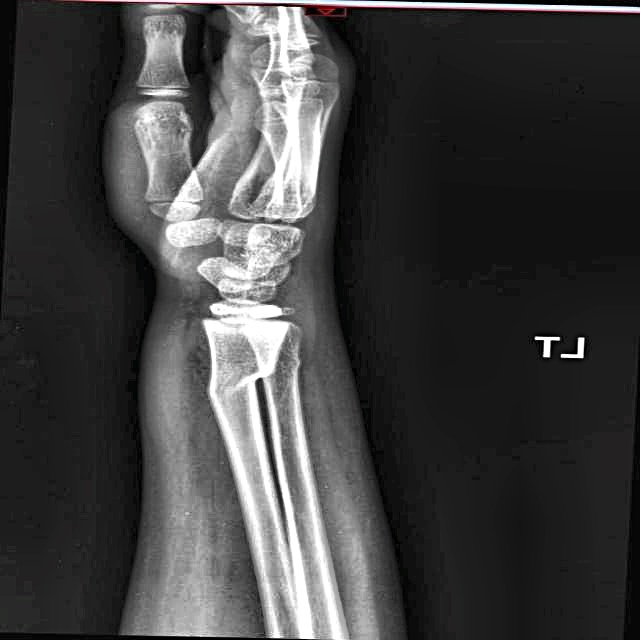Greenstick: (220, 347, 284, 401)
